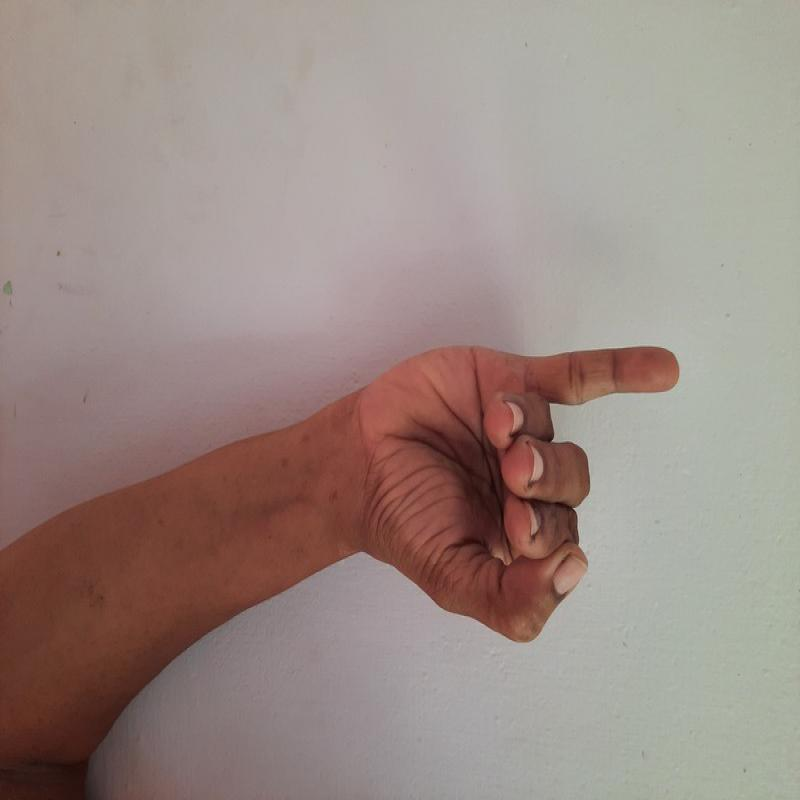Kartharee Mukham: (355, 322, 706, 652)
